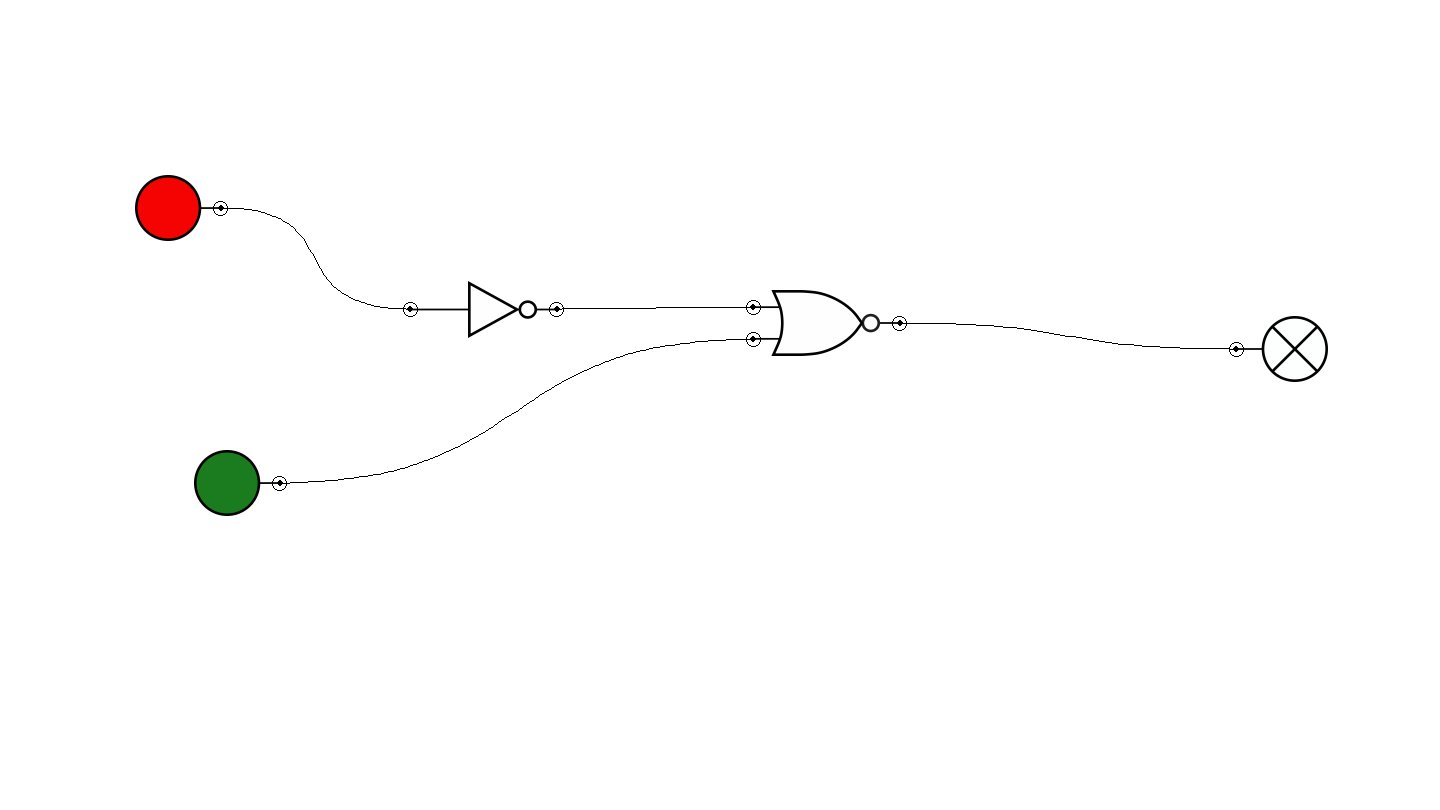bulb: (1229, 316, 1328, 382)
nor: (746, 290, 907, 356)
not: (403, 281, 564, 338)
switch_False: (135, 175, 228, 241)
switch_True: (194, 450, 287, 516)
